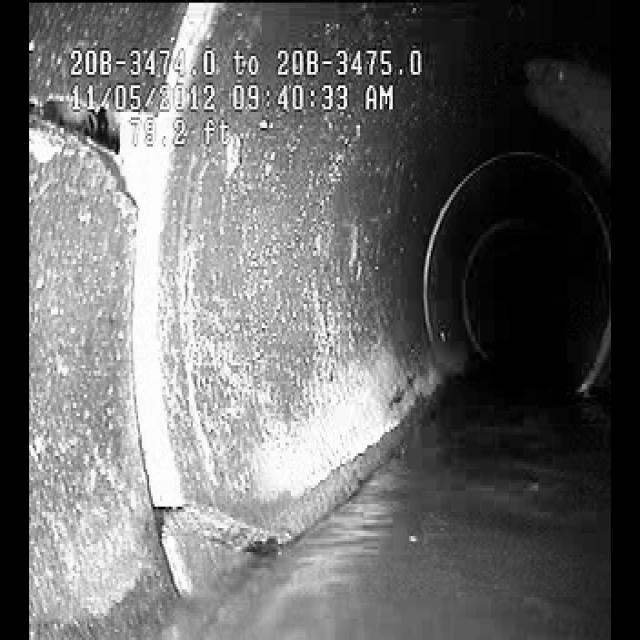Fracture: (152, 441, 289, 586), (44, 62, 130, 208)
